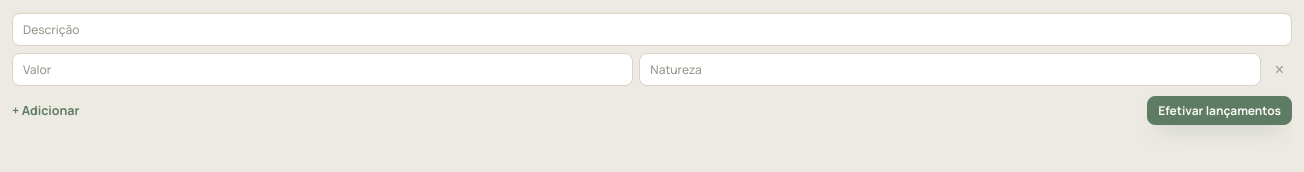
FormVR — caminhos inválidos, sem crash (TL-74, TL-75, TL-76, TL-77, TL-78) › valor <= 0 bloqueia com mensagem de erro
Type "0" into the field named "Valor da despesa 1" at (323, 70), box [12,53,633,86]
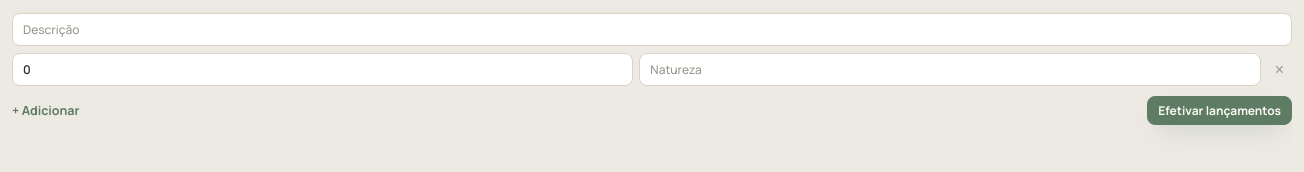
Type "ALM" into the field named "Natureza da despesa 1" at (950, 70), box [639,53,1261,86]
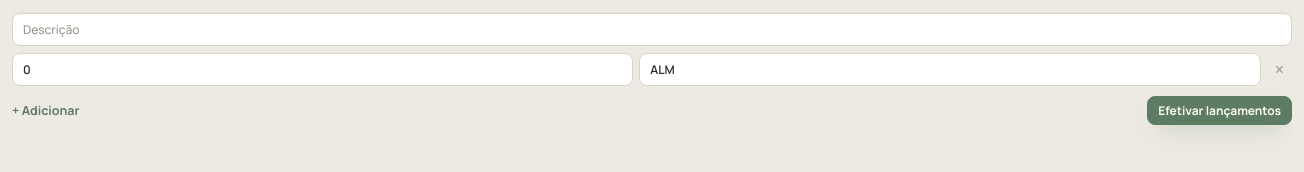
Type "Mercado" into the field named "Descrição da despesa 1" at (652, 30), box [12,13,1292,46]
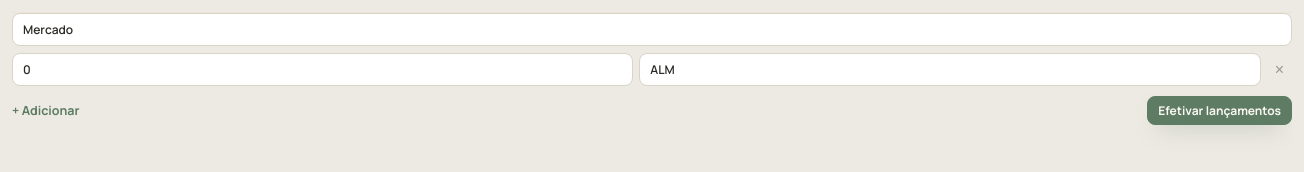
Click the button "Efetivar lançamentos" at (1220, 110), box [1147,96,1292,125]
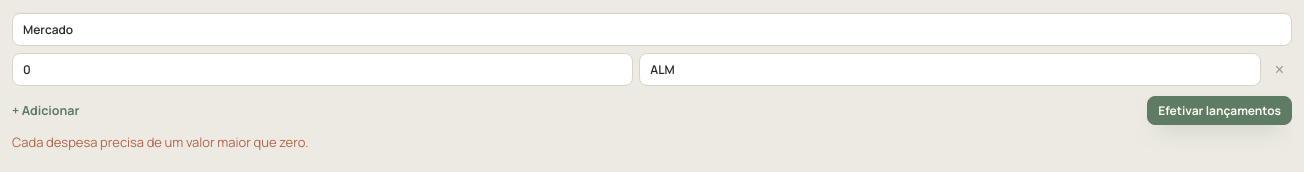
Expected: the message "Cada despesa precisa de um valor maior que zero." is shown, [12,133,308,151]
